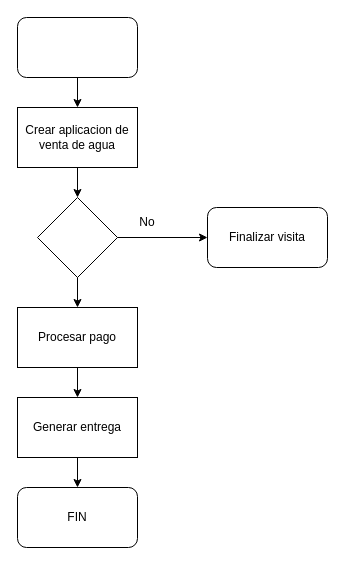
Some shapes in this 345 by 565 pixel diagram are drawn without their labels. Each missing label, with the centre of its shape:
"INICIO" belongs at (77,47).
"¿Cliente registrado?" belongs at (77,237).
